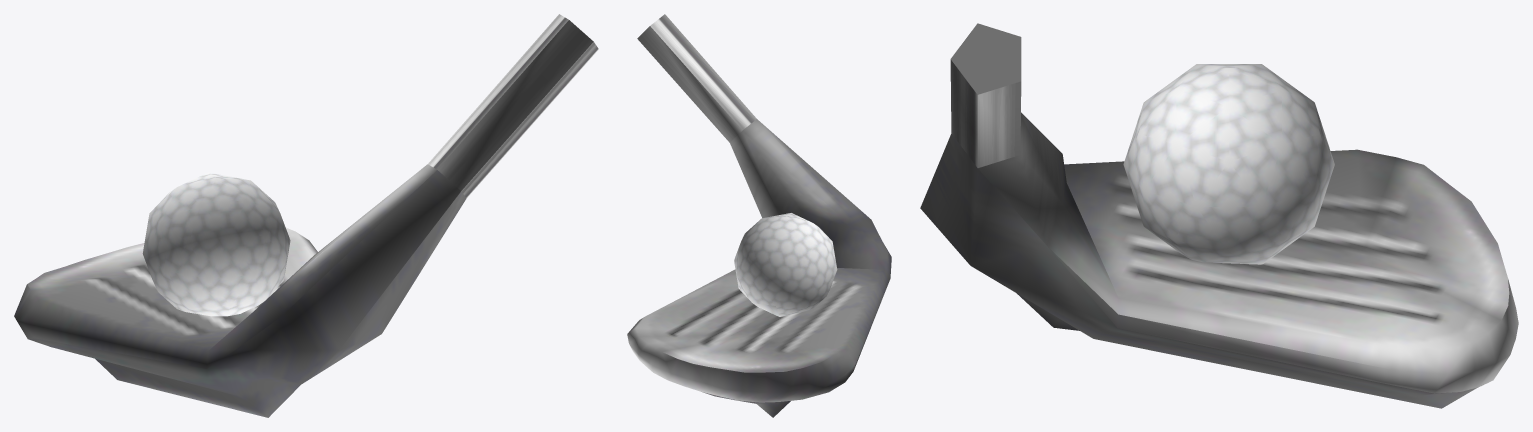
The model's file is golfer1.ico.obj.
The picture shows the model from 3 angles, left to right: view 1: azimuth 30°, elevation 25°; view 2: azimuth 150°, elevation 25°; view 3: azimuth 270°, elevation 25°; orthographic projection. The views are drawn at different scales.
Bounding box in the file's own units: 2.51 × 2.16 × 2.12.
Materials: 1 (1 with a texture image).
